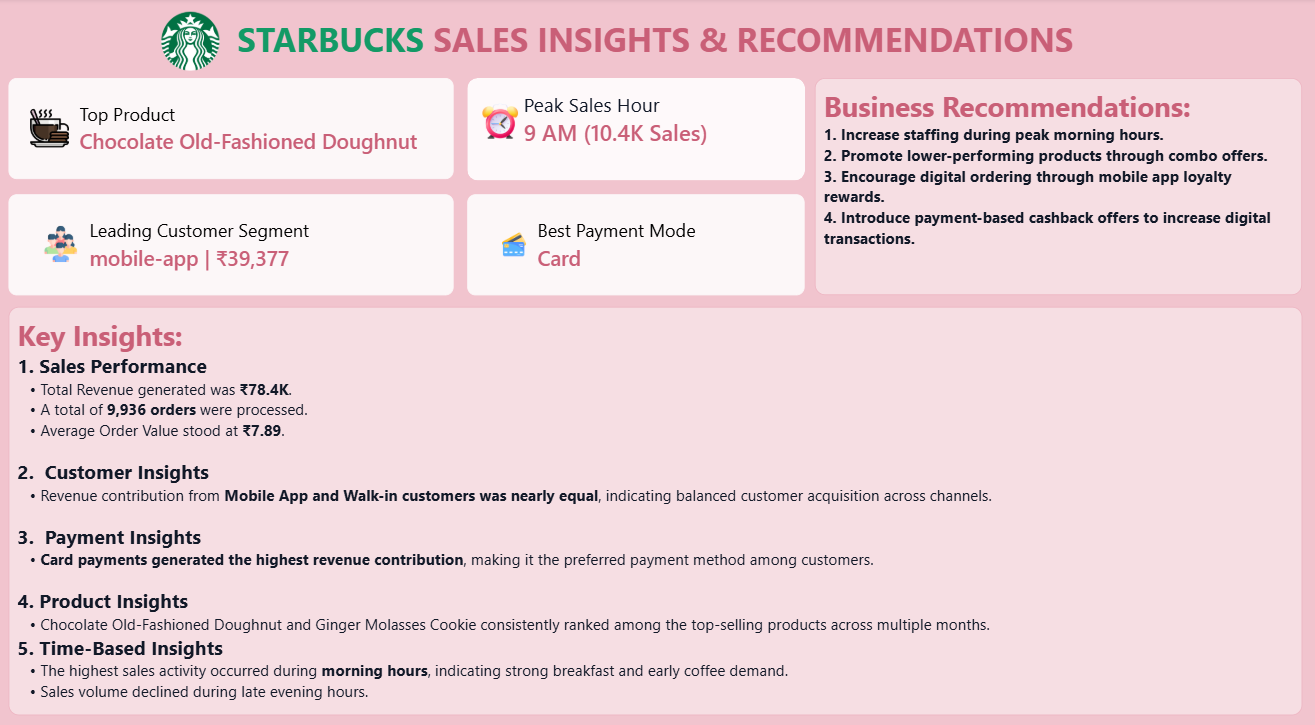

What the dashboard file says about the page in this screenshot:
{"tool":"powerbi","page":{"name":"Insights & Recommendations","canvas":[1280,720],"ordinal":3},"visuals":[{"type":"textbox","box":[12.1,13.3,1248.7,56.7],"z":0},{"type":"shape","box":[454.5,77.2,326.1,98.9],"z":0,"group":"g1"},{"type":"textbox","box":[504.5,85.4,218.7,65.1],"z":1000,"group":"g1"},{"type":"textbox","box":[12.1,298,1248.7,394.5],"z":1000},{"type":"textbox","box":[790.2,77.2,470.5,209.9],"z":2000},{"type":"image","box":[422.3,101,128.6,34.6],"z":2000,"group":"g1"},{"type":"cardVisual","fields":{"Data":["Table.Top Product"]},"box":[12.1,77.2,429.5,97.7],"z":3000},{"type":"cardVisual","fields":{"Data":["Table.Best Payment Mode"]},"box":[454.8,189.4,325.7,97.7],"z":4000},{"type":"group","id":"g1","title":"Group 1","box":[422.3,77.2,358.3,98.9],"z":5000},{"type":"cardVisual","fields":{"Data":["Table.Top Customer Segment"]},"box":[12.1,189.4,429.5,97.7],"z":6000},{"type":"image","box":[148.4,13.3,78.4,56.7],"z":7000}]}

Visuals, with their boxes in screenshot pixels (x1, y1, x2, y2), scaled from the page's 1280x720 canvas onto the 1315x725 screenshot:
textbox: <box>12,13,1295,70</box>
shape: <box>467,78,802,177</box>
textbox: <box>518,86,743,152</box>
textbox: <box>12,300,1295,697</box>
textbox: <box>812,78,1295,289</box>
image: <box>434,102,566,137</box>
cardVisual - Table.Top Product: <box>12,78,454,176</box>
cardVisual - Table.Best Payment Mode: <box>467,191,802,289</box>
"Group 1" group: <box>434,78,802,177</box>
cardVisual - Table.Top Customer Segment: <box>12,191,454,289</box>
image: <box>152,13,233,70</box>
